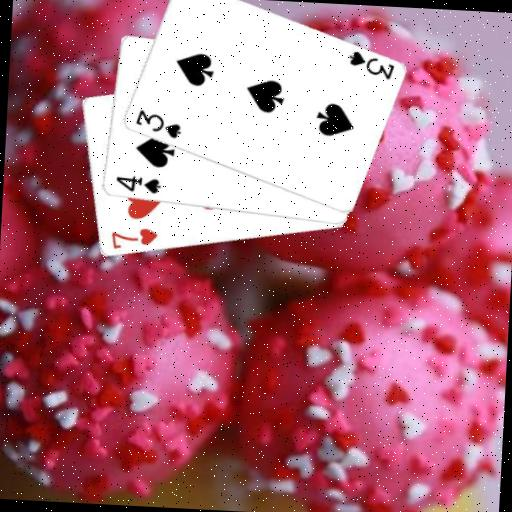3S: (132, 106, 184, 141), (344, 47, 396, 82)
4S: (112, 172, 162, 196)
7H: (108, 223, 160, 253)
